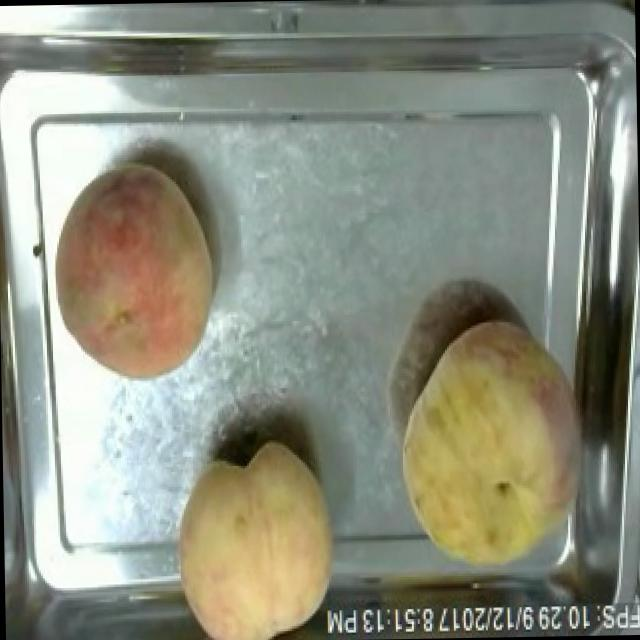Fruit: (388, 307, 602, 587), (39, 156, 225, 387), (164, 431, 348, 640)
